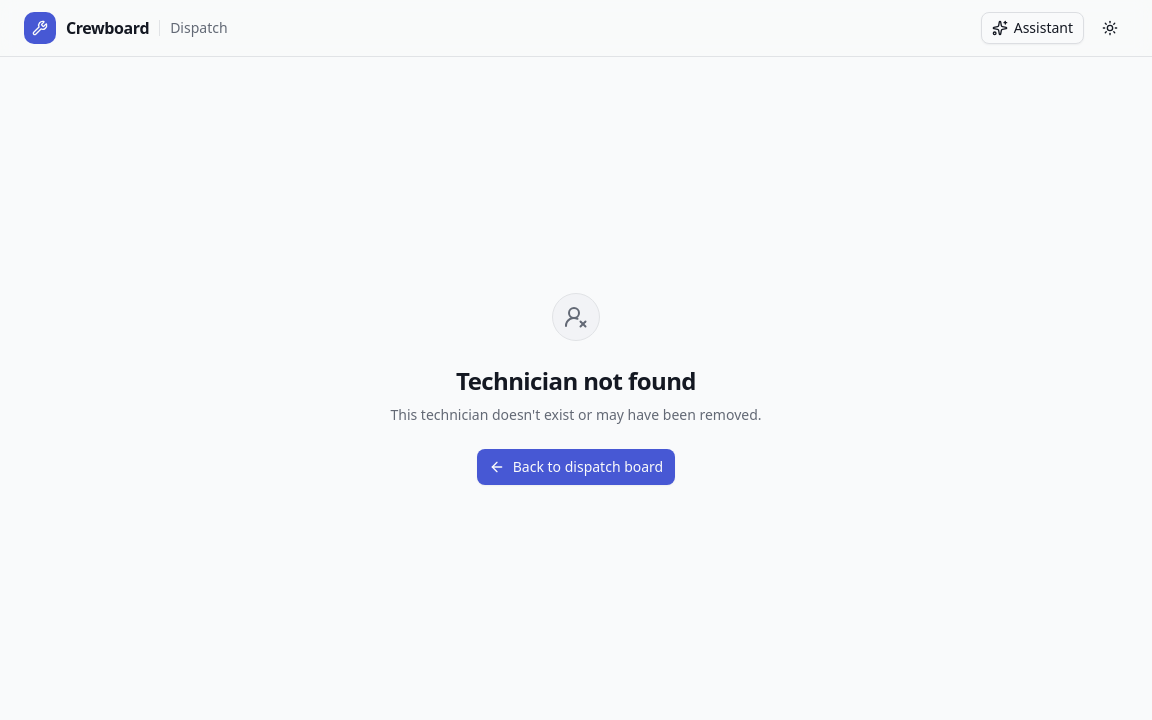
Test: TechnicianProfilePage › shows a not-found state with a way back for an unknown technician
The image size is (1152, 720).
Expected: the heading "Technician not found" is shown, [456,364,696,396]
Click the link "Back to dispatch board": [576, 466] box [477,448,675,484]
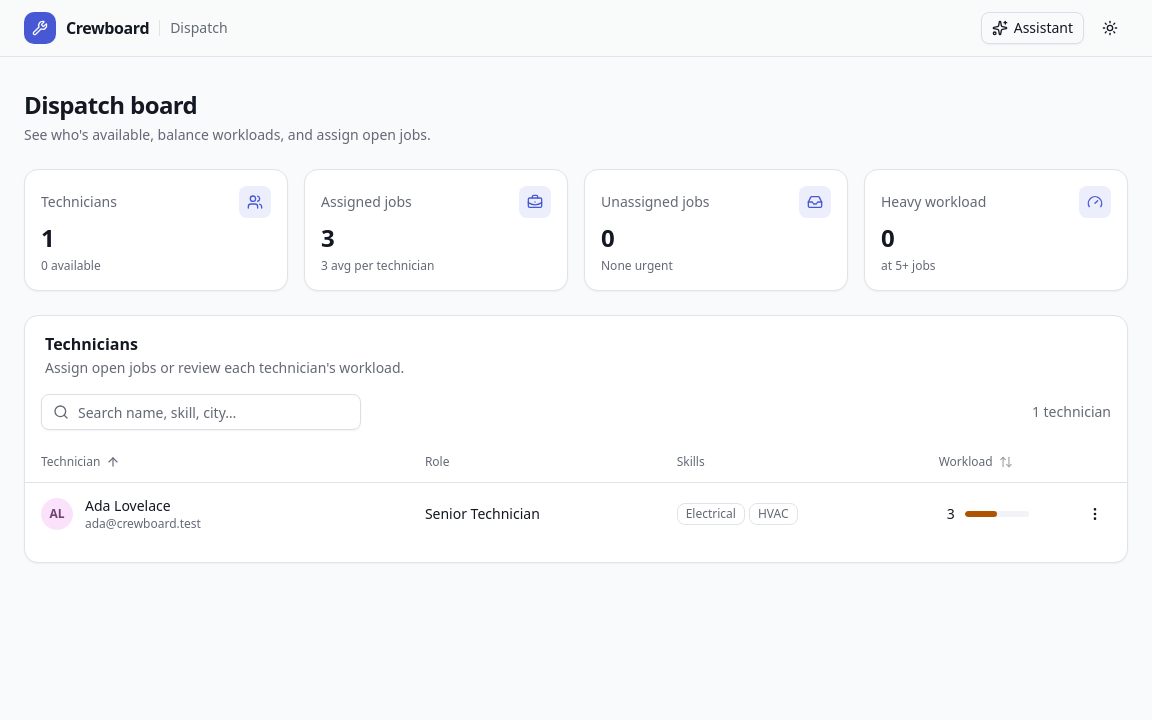
Expected: the heading "Dispatch board" is shown, [24,88,197,121]
